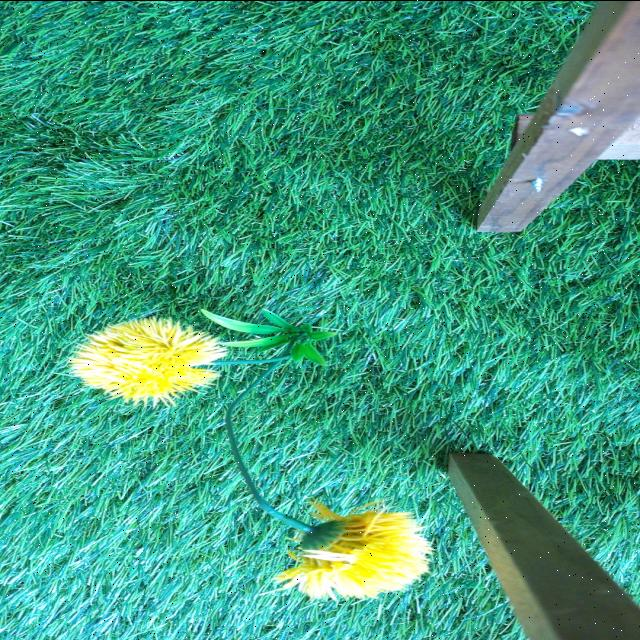base: (201, 308, 341, 363)
flower: (273, 505, 437, 601), (68, 318, 222, 401)
